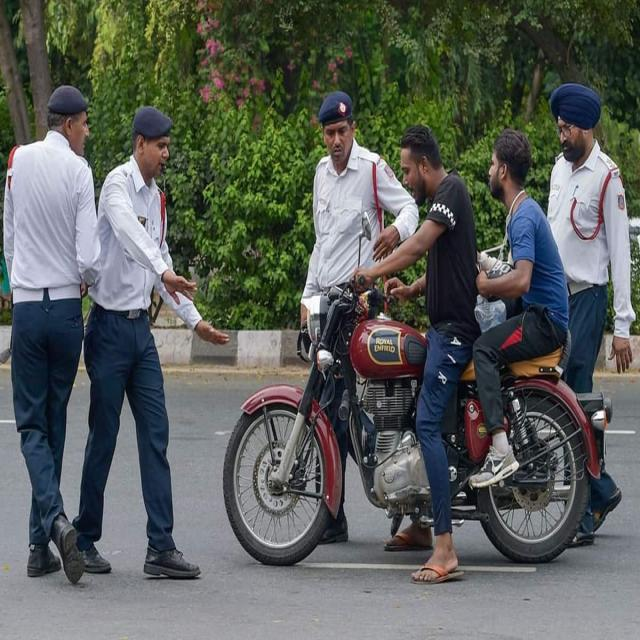Not Wearing Helmet: (366, 122, 468, 245)
